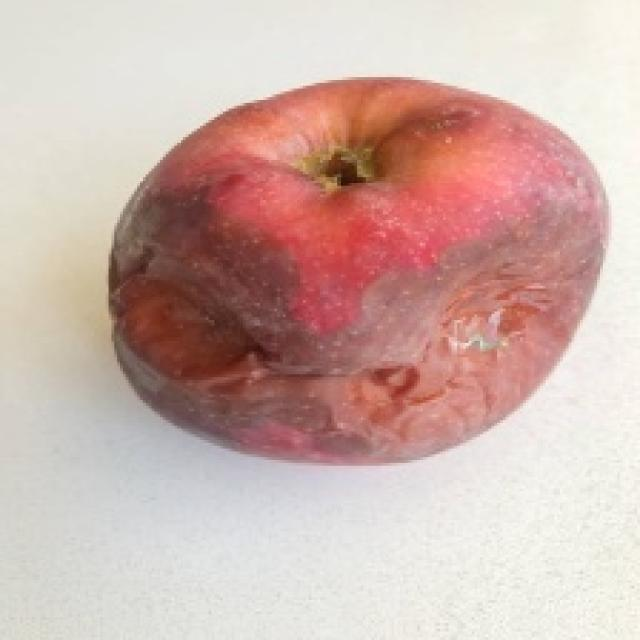rotten_apple: (108, 80, 606, 462)
